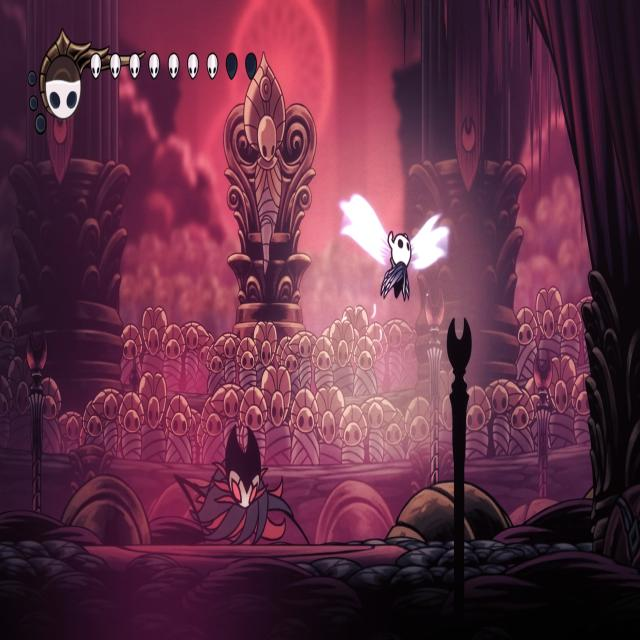Dive Dash: (173, 418, 317, 548)
Player: (382, 224, 417, 306)
